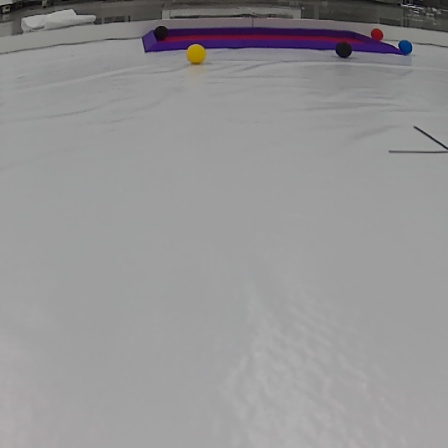black: (333, 38, 356, 60), (154, 25, 169, 41)
blue: (397, 40, 412, 54)
red: (370, 27, 386, 42)
red_aim: (137, 27, 400, 60)
yellow: (185, 42, 204, 64)
